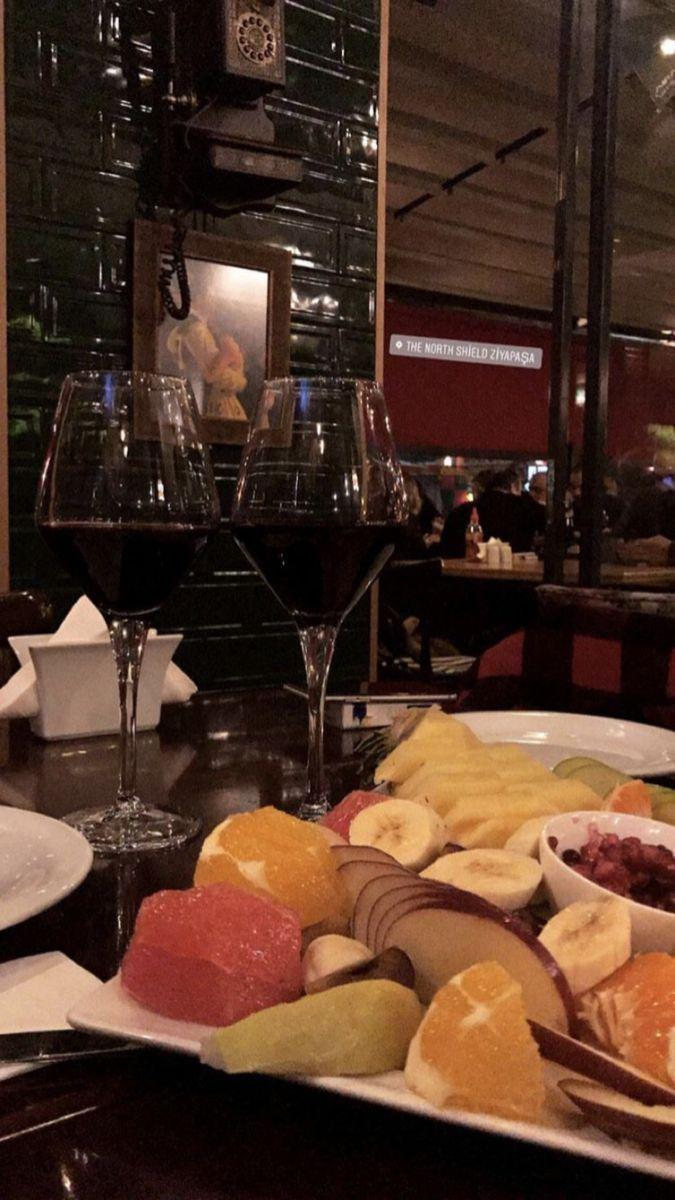glass-wine: (34, 368, 217, 850), (227, 376, 408, 826)
